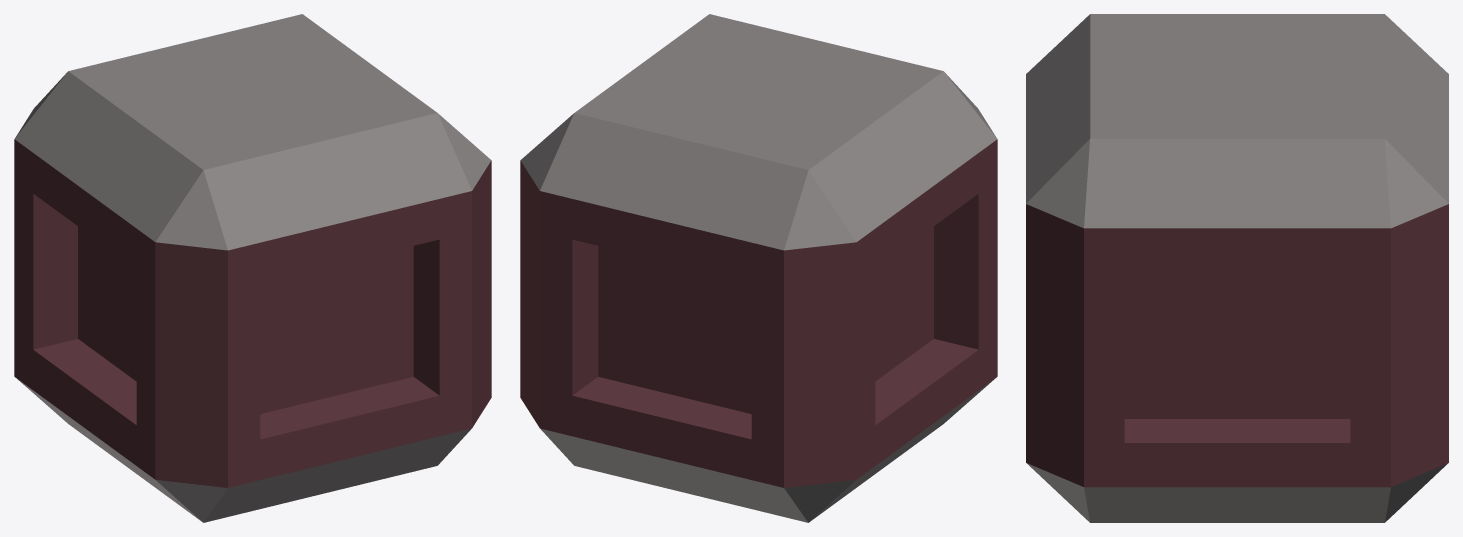
The model's file is scifi-belt-moving-connector.glb.
The picture shows the model from 3 angles, left to right: view 1: azimuth 30°, elevation 25°; view 2: azimuth 150°, elevation 25°; view 3: azimuth 270°, elevation 25°; orthographic projection. The views are drawn at different scales.
Visible parts, largest first — view 1: belt-moving-connector; view 2: belt-moving-connector; view 3: belt-moving-connector.
Boxes of the visible parts, left/top/right/bottom form: belt-moving-connector: left=14, top=14, right=491, bottom=522; belt-moving-connector: left=520, top=14, right=997, bottom=522; belt-moving-connector: left=1026, top=14, right=1448, bottom=522.
Size of the model in its own units: 1.5 by 1.5 by 1.5.
